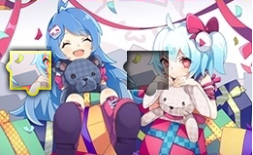gap: (123, 50, 169, 90)
